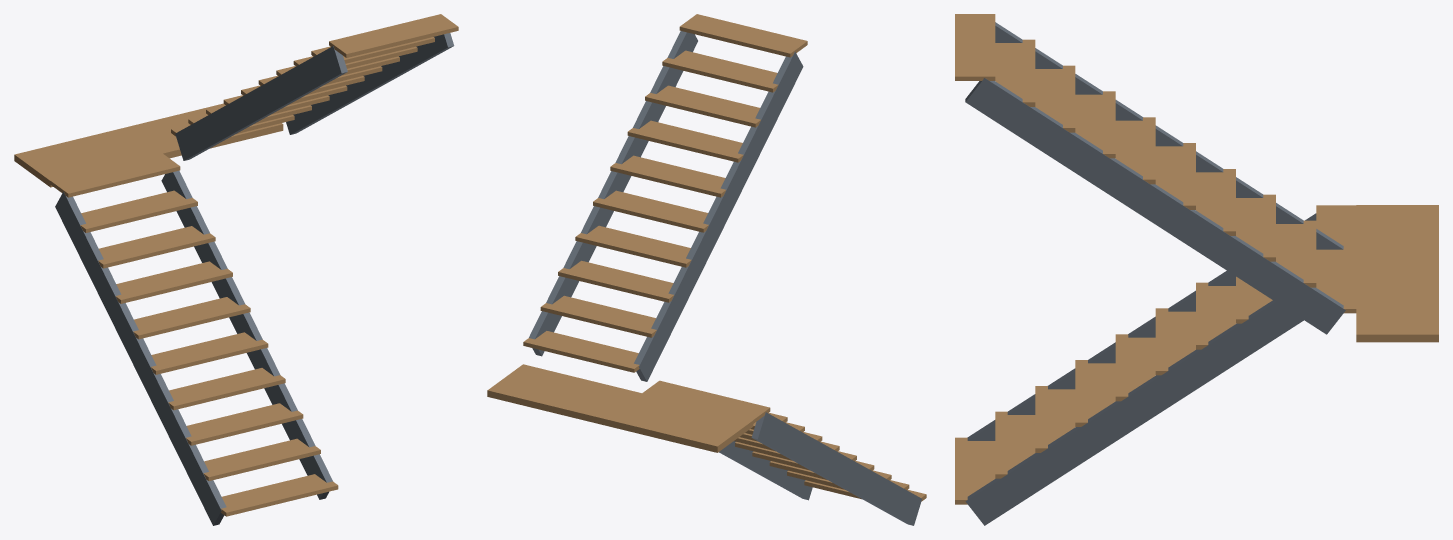
Rendered from steel-stairs-lite.glb.
3 renders of one model, left to right at view 1: azimuth 30°, elevation 25°; view 2: azimuth 150°, elevation 25°; view 3: azimuth 270°, elevation 25°, orthographic. The views are drawn at different scales.
Visible parts, largest first — view 1: material-1-top, material-0-metal; view 2: material-1-top, material-0-metal; view 3: material-1-top, material-0-metal.
Part boxes in pixels (x1,y1,x2,y2): material-1-top: [14, 14, 458, 516]; material-0-metal: [55, 33, 454, 525]; material-1-top: [487, 14, 926, 501]; material-0-metal: [529, 31, 921, 525]; material-1-top: [955, 14, 1438, 504]; material-0-metal: [965, 22, 1345, 525].
Size of the model in its own units: 1.86 by 3.45 by 2.93.
